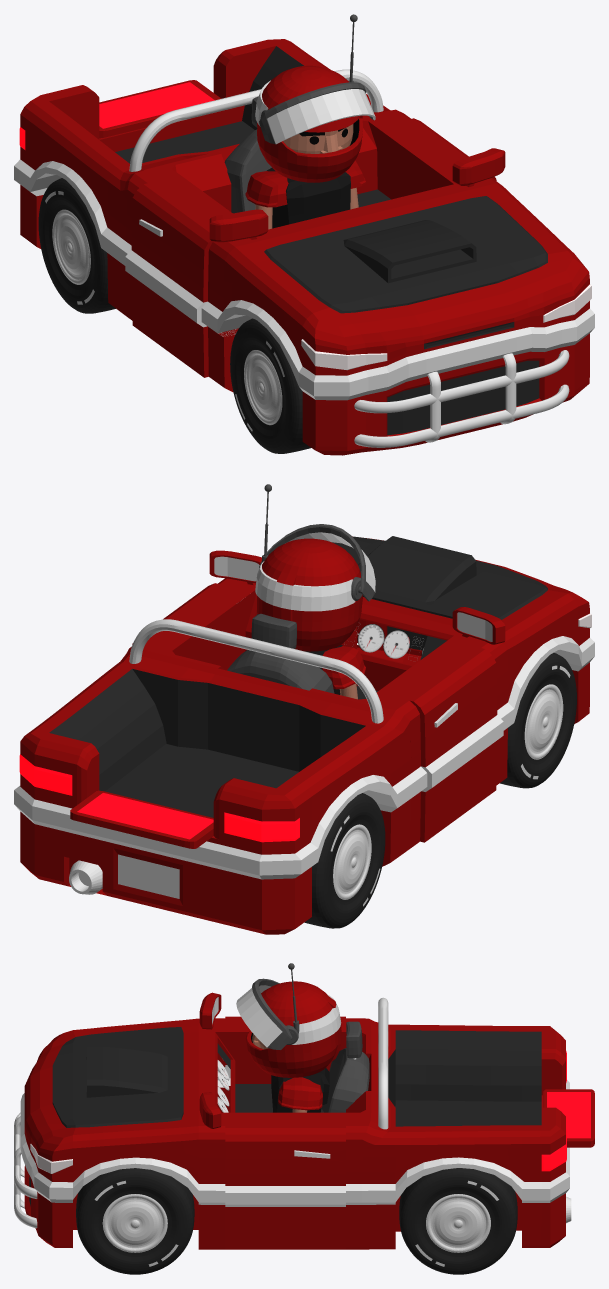
Rendered from carlitos segundo coche.fbx.
The picture shows the model from 3 angles, top to bottom: view 1: azimuth 30°, elevation 25°; view 2: azimuth 150°, elevation 25°; view 3: azimuth 270°, elevation 25°; orthographic projection. The views are drawn at different scales.
Parts seen in each view (by area): view 1: Asiento, WFR.002, WRR.002, Casco.002, Cuerpo Carlitos.001, Visor.002, Cabeza Carlitos.001; view 2: Asiento, Casco.002, WRR.002, WFR.002, Visor.002, Cuerpo Carlitos.001; view 3: Asiento, WRL.002, WFL.002, Casco.002, Cuerpo Carlitos.001, Visor.002.
Boxes of the visible parts, x1,y1,x2,y2 form: Asiento: (14, 39, 594, 455); WFR.002: (230, 318, 310, 453); WRR.002: (38, 178, 115, 313); Casco.002: (255, 14, 362, 182); Cuerpo Carlitos.001: (245, 160, 366, 229); Visor.002: (259, 82, 375, 144); Cabeza Carlitos.001: (283, 124, 353, 153); Asiento: (14, 536, 594, 934); Casco.002: (255, 484, 362, 651); WRR.002: (304, 793, 385, 928); WFR.002: (500, 652, 576, 788); Visor.002: (259, 524, 375, 601); Cuerpo Carlitos.001: (305, 645, 365, 699); Asiento: (14, 992, 594, 1249); WRL.002: (399, 1168, 517, 1274); WFL.002: (76, 1168, 194, 1274); Casco.002: (245, 963, 341, 1077); Cuerpo Carlitos.001: (271, 1068, 329, 1112); Visor.002: (236, 978, 292, 1049).
Bounding box in the file's own units: 119 × 120 × 231.
18 materials, 1 textured.
